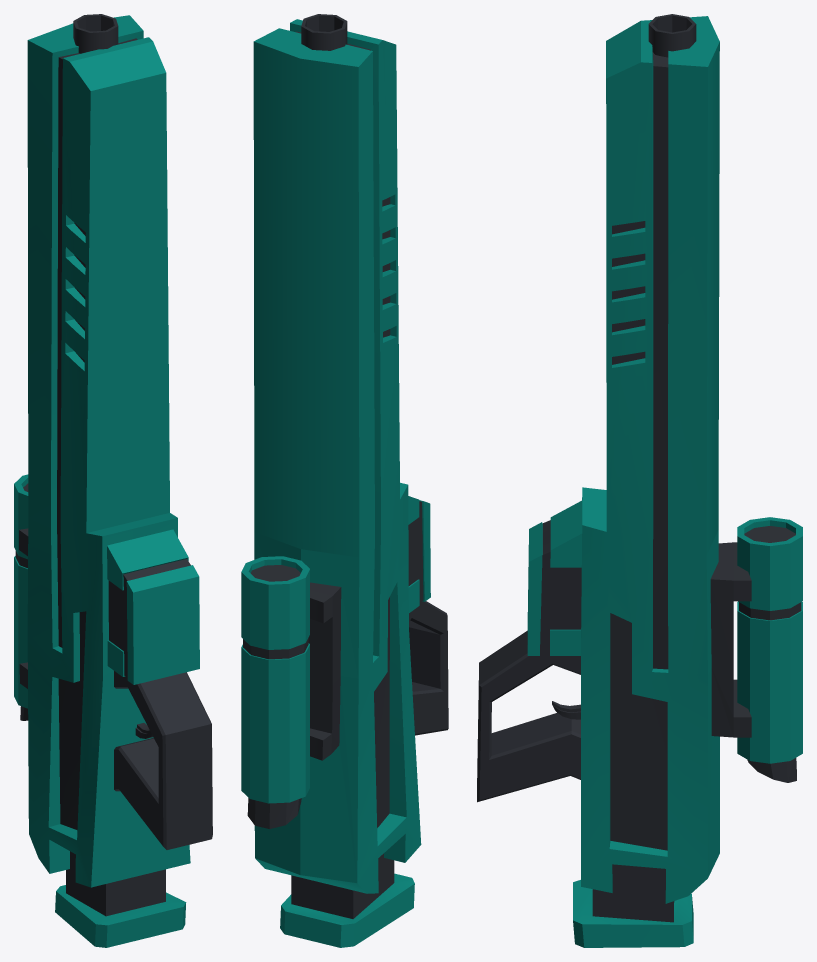
Rendered from low poly scifi gun012.fbx.
The picture shows the model from 3 angles, left to right: view 1: azimuth 30°, elevation 25°; view 2: azimuth 150°, elevation 25°; view 3: azimuth 270°, elevation 25°; orthographic projection. The views are drawn at different scales.
Parts seen in each view (by area): view 1: low poly scifi gun012; view 2: low poly scifi gun012; view 3: low poly scifi gun012.
Boxes of the visible parts, x1,y1,x2,y2 form: low poly scifi gun012: (14,14,212,947); low poly scifi gun012: (241,14,448,947); low poly scifi gun012: (477,14,802,947).
Size of the model in its own units: 3.2 by 26.48 by 8.64.
